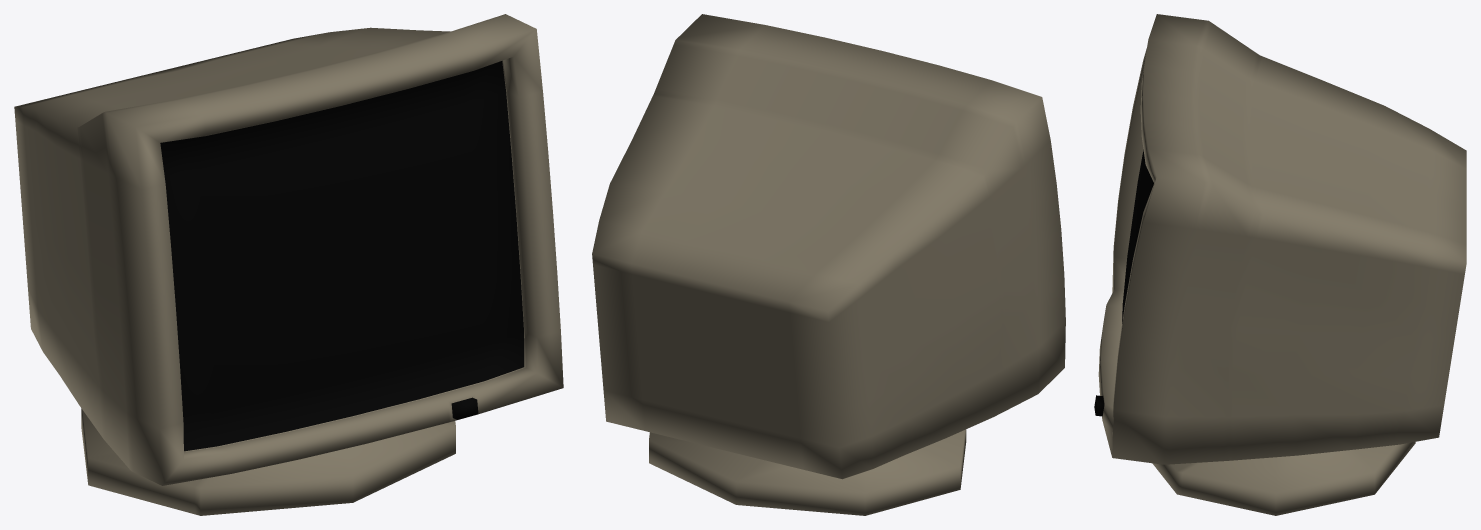
File: oldpc.fbx
3 views of the same model, side by side, from view 1: azimuth 30°, elevation 25°; view 2: azimuth 150°, elevation 25°; view 3: azimuth 270°, elevation 25° (orthographic). The views are drawn at different scales.
Visible parts, largest first — view 1: Cube; view 2: Cube; view 3: Cube.
Part boxes in pixels (x1,y1,x2,y2): Cube: (14, 14, 563, 515); Cube: (592, 14, 1065, 515); Cube: (1094, 14, 1466, 515).
Size of the model in its own units: 70.82 by 69.84 by 68.03.
